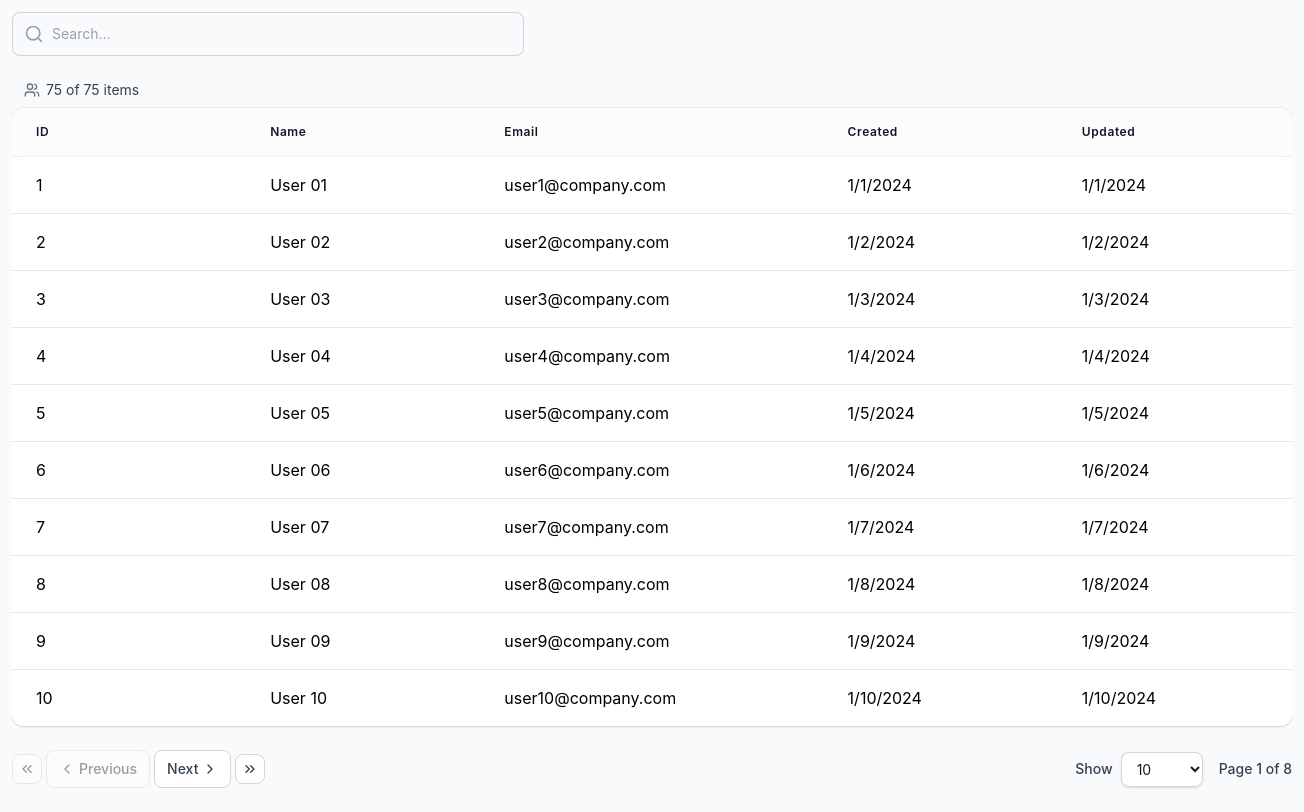
GenericDataTable Integration Tests › Search Functionality › handles no search results gracefully
# Search for non-existent term
Step 1. Type "NonExistentTerm" into the field with placeholder "Search..." → (268, 34), box x1=12 y1=12 x2=524 y2=56
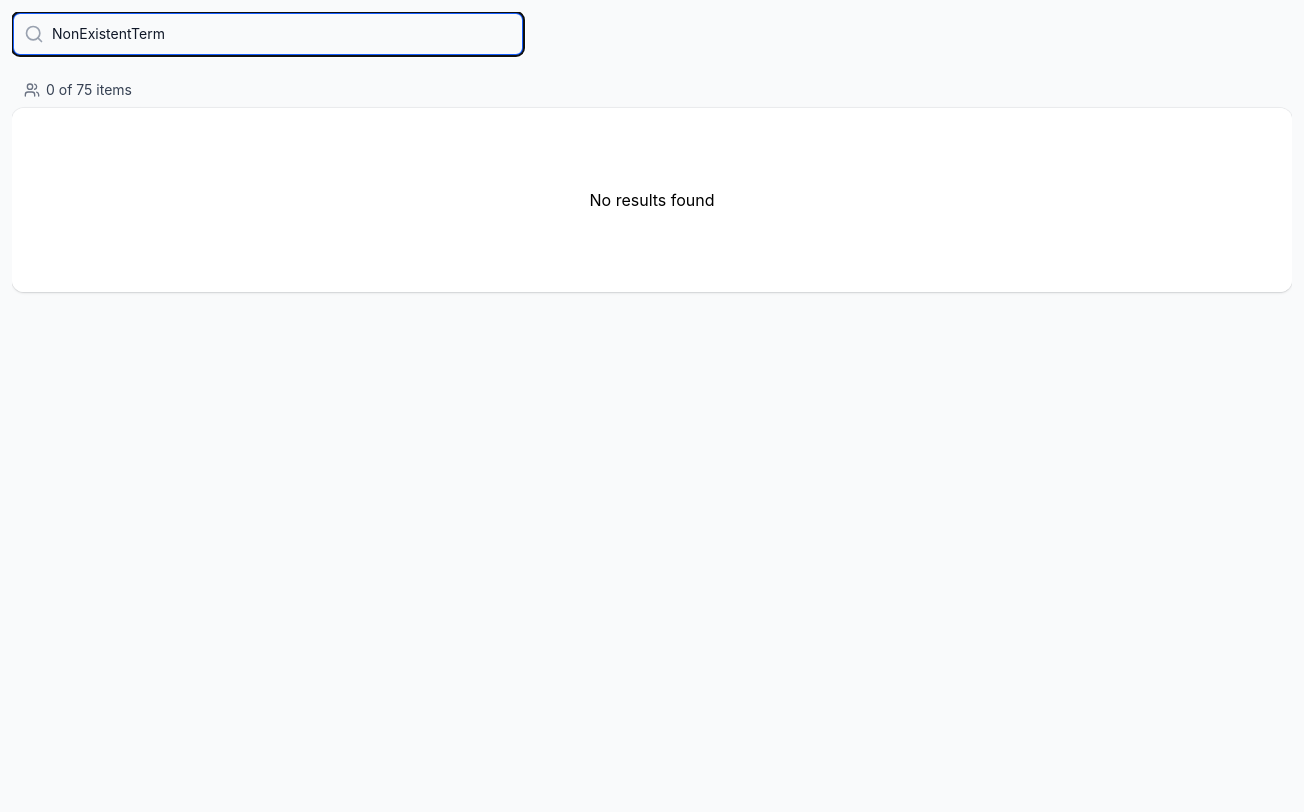
Result: the text "No results found" is shown at x1=590 y1=190 x2=714 y2=210
